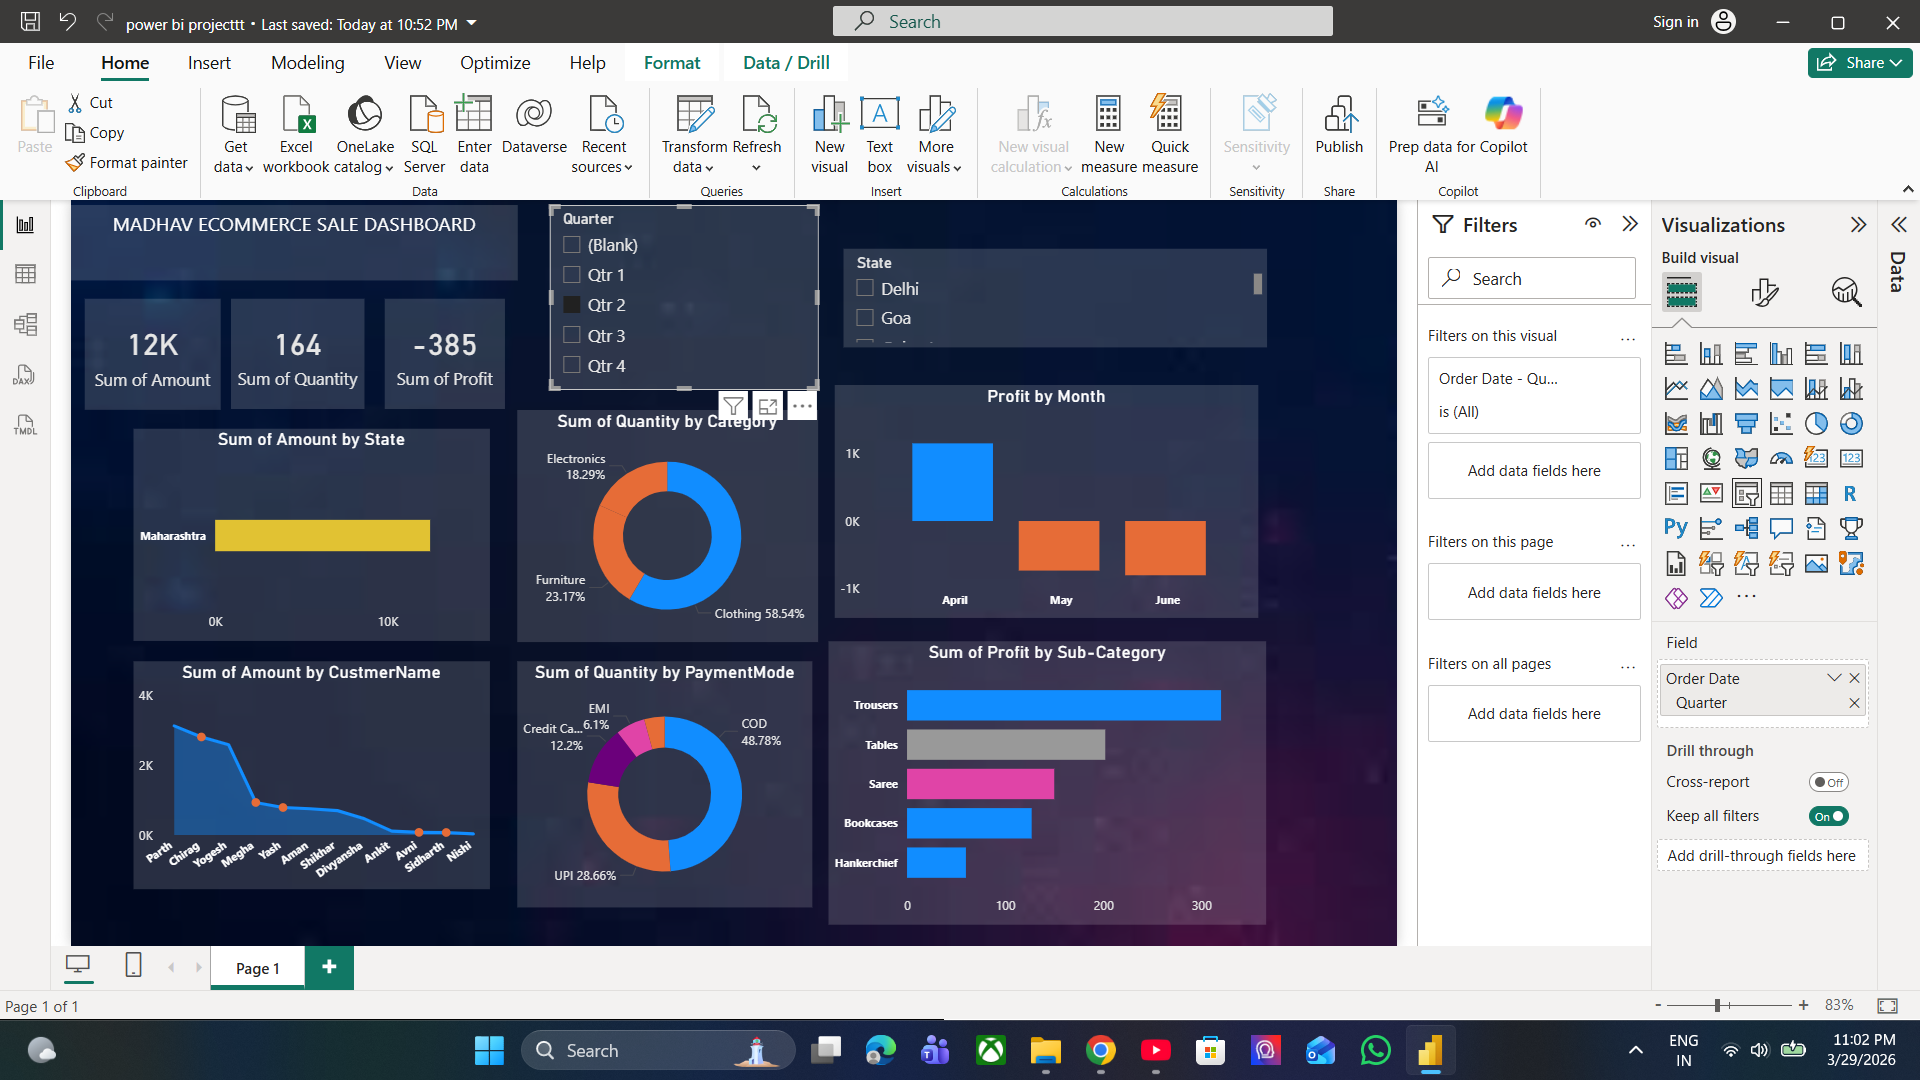

The page's visual inventory and layout, read from the dashboard file:
{"tool":"powerbi","page":{"name":"Page 1","canvas":[1280,720],"ordinal":0},"visuals":[{"type":"columnChart","title":" Profit by Month","fields":{"Y":["Sum(Details.Profit)"],"Category":["Orders.Order Date.Variation.Date Hierarchy.Month"]},"box":[737.5,178.8,408.8,225],"z":0},{"type":"clusteredBarChart","fields":{"Y":["Sum(Details.Profit)"],"Category":["Details.Sub-Category"]},"box":[731.2,426.2,422.5,273.8],"z":1000},{"type":"donutChart","fields":{"Y":["Sum(Details.Quantity)"],"Category":["Details.Category"]},"box":[431.2,202.5,290,223.8],"z":2000},{"type":"donutChart","fields":{"Y":["Sum(Details.Quantity)"],"Category":["Details.PaymentMode"]},"box":[431.2,445,285,237.5],"z":3000},{"type":"card","fields":{"Values":["Sum(Details.Amount)"]},"box":[13.8,95,131.2,107.5],"z":4000},{"type":"card","fields":{"Values":["Sum(Details.Quantity)"]},"box":[155,95,128.8,106.2],"z":5000},{"type":"card","fields":{"Values":["Sum(Details.Profit)"]},"box":[302.5,95,116.2,106.2],"z":6000},{"type":"clusteredBarChart","fields":{"Y":["Sum(Details.Amount)"],"Category":["Orders.State"]},"box":[60,221.2,343.8,205],"z":7000},{"type":"stackedAreaChart","fields":{"Category":["Orders.CustmerName"],"Y":["Sum(Details.Amount)"]},"box":[60,445,343.8,220],"z":8000},{"type":"slicer","fields":{"Values":["Orders.Order Date.Variation.Date Hierarchy.Quarter"]},"box":[462.5,5,258.8,178.8],"z":8001},{"type":"slicer","fields":{"Values":["Orders.State"]},"box":[745,47.5,408.8,95],"z":8002},{"type":"textbox","box":[0,5,431.2,72.5],"z":8003}]}

Visuals, with their boxes on the page's 1280x720 design canvas (x1, y1, x2, y2). These are canvas units, not pixel positions in the 1920x1080 screenshot, which may show the page scaled, cropped or inside an application window:
" Profit by Month" columnChart: l=738, t=179, r=1146, b=404
clusteredBarChart - Sum(Details.Profit) x Details.Sub-Category: l=731, t=426, r=1154, b=700
donutChart - Sum(Details.Quantity) x Details.Category: l=431, t=202, r=721, b=426
donutChart - Sum(Details.Quantity) x Details.PaymentMode: l=431, t=445, r=716, b=682
card - Sum(Details.Amount): l=14, t=95, r=145, b=202
card - Sum(Details.Quantity): l=155, t=95, r=284, b=201
card - Sum(Details.Profit): l=302, t=95, r=419, b=201
clusteredBarChart - Sum(Details.Amount) x Orders.State: l=60, t=221, r=404, b=426
stackedAreaChart - Orders.CustmerName x Sum(Details.Amount): l=60, t=445, r=404, b=665
slicer - Orders.Order Date.Variation.Date Hierarchy.Quarter: l=462, t=5, r=721, b=184
slicer - Orders.State: l=745, t=48, r=1154, b=142
textbox: l=0, t=5, r=431, b=78
